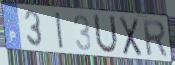3: (23, 9, 44, 49), (73, 13, 92, 52)
I: (54, 11, 66, 52)
R: (141, 18, 169, 58)
U: (92, 12, 120, 56)
X: (118, 14, 143, 58)
